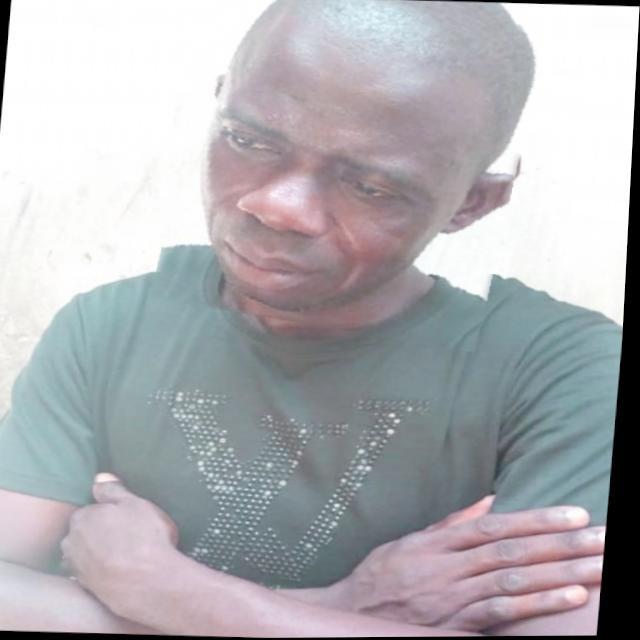sad: (159, 0, 539, 344)
